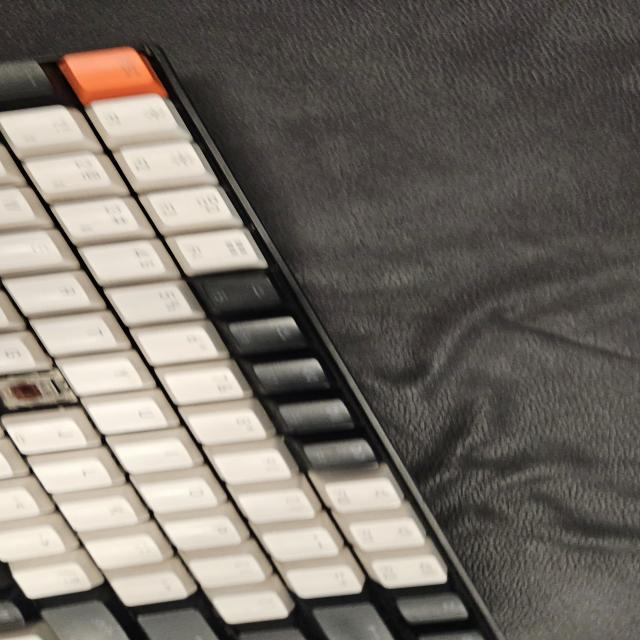C: (0, 378, 66, 409), (5, 374, 56, 408)
